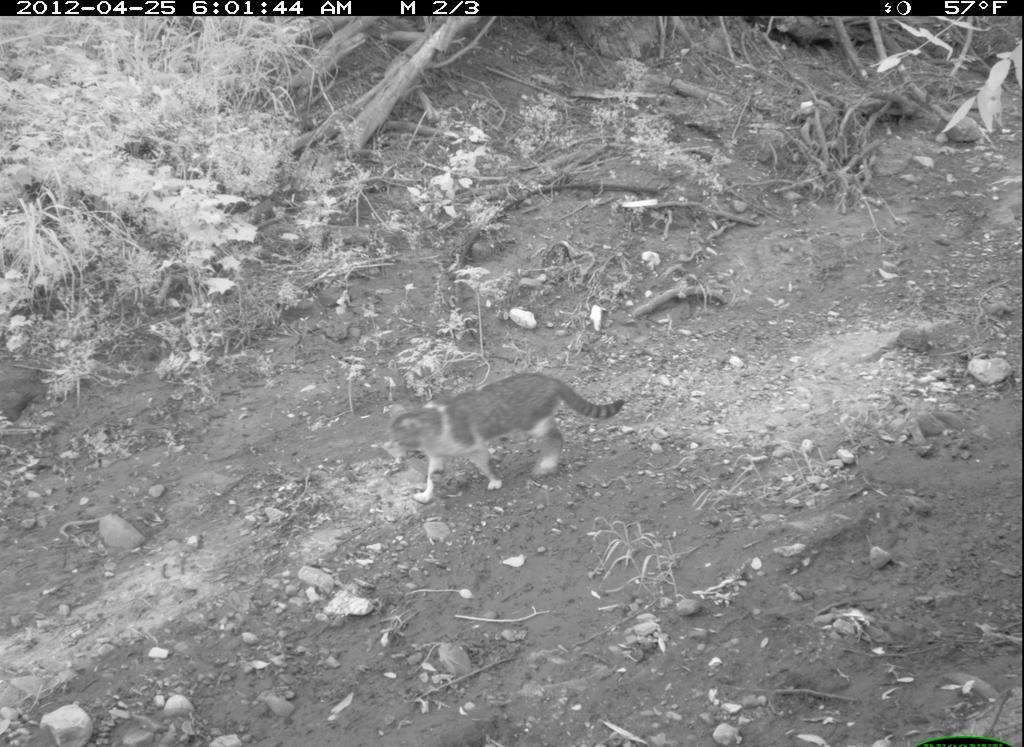cat: (370, 349, 665, 524)
